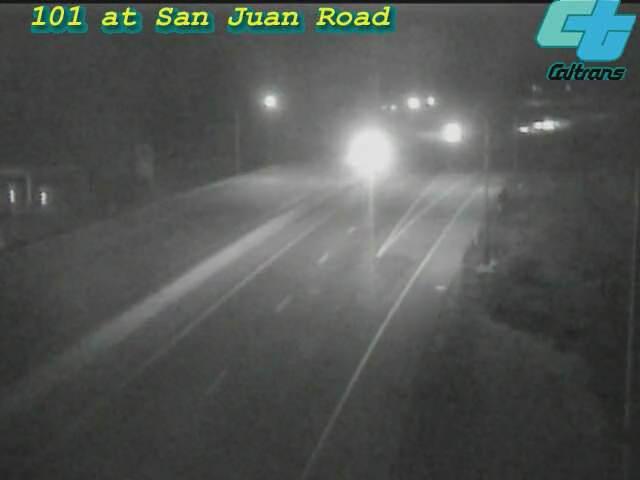vehicle: (340, 129, 390, 179), (423, 109, 473, 159), (529, 97, 579, 147), (514, 102, 564, 152), (500, 105, 550, 155)
